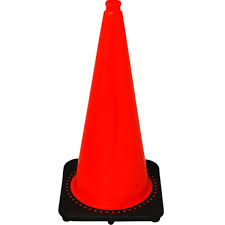cones: (53, 1, 169, 221)
